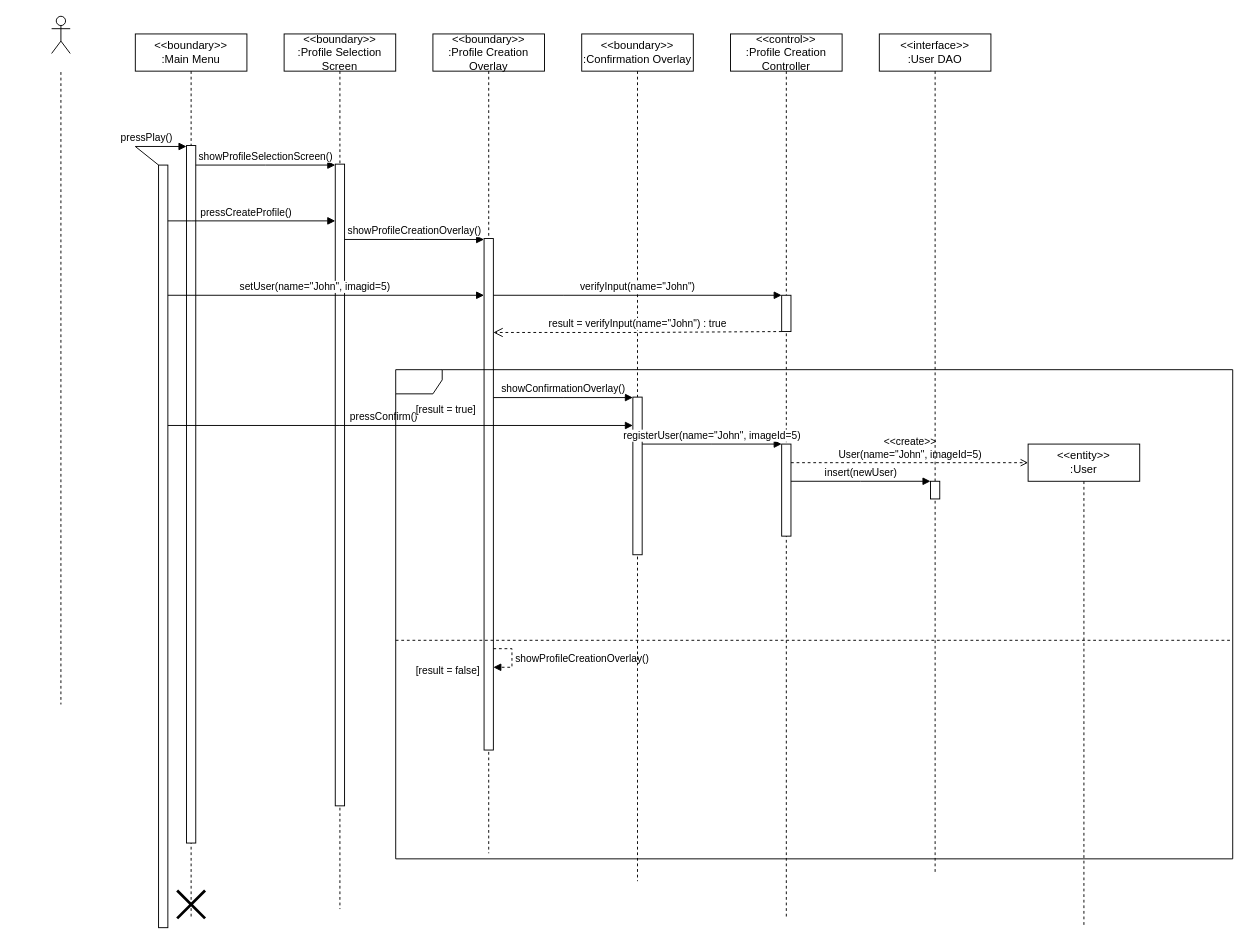
This 1249x944 diagram has some shape labels left out. Here are the shapes that lost their labels. From the top down, the centre of each, then its label:
At (60,34): ":Unregistered User".
At (814,614): "alt".
